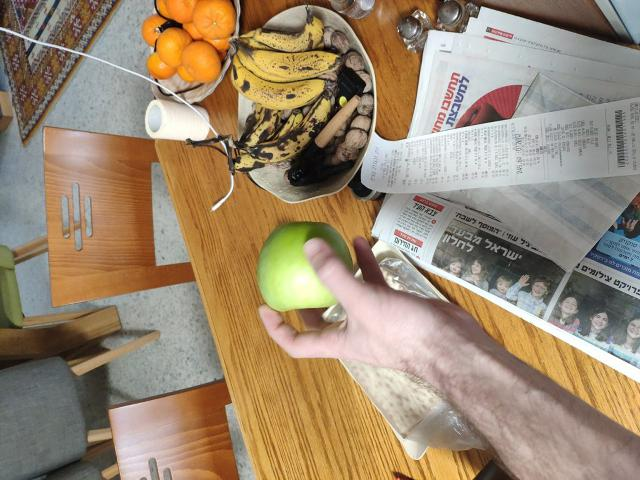apple: (256, 218, 359, 307)
